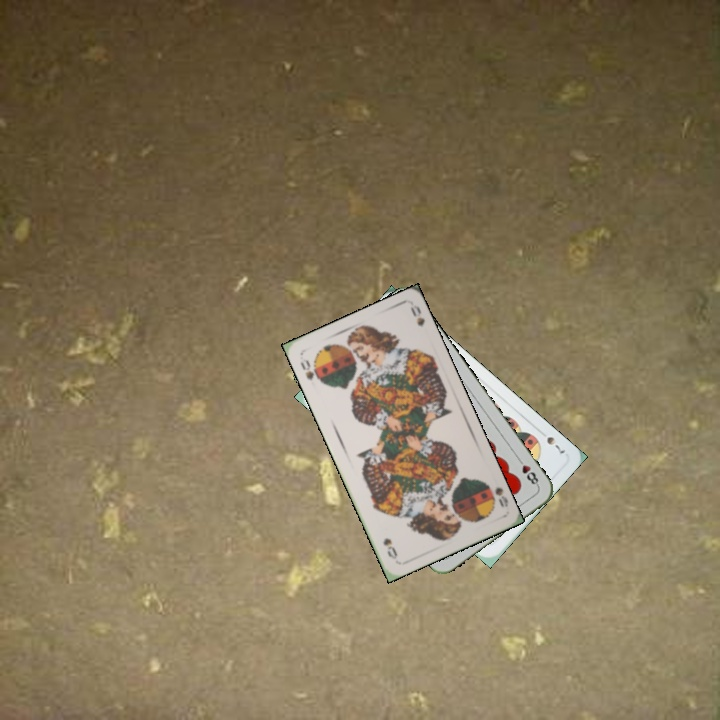H8: (513, 453, 541, 489)
S7: (535, 426, 568, 456)
SO: (480, 478, 511, 509), (296, 355, 324, 386)
